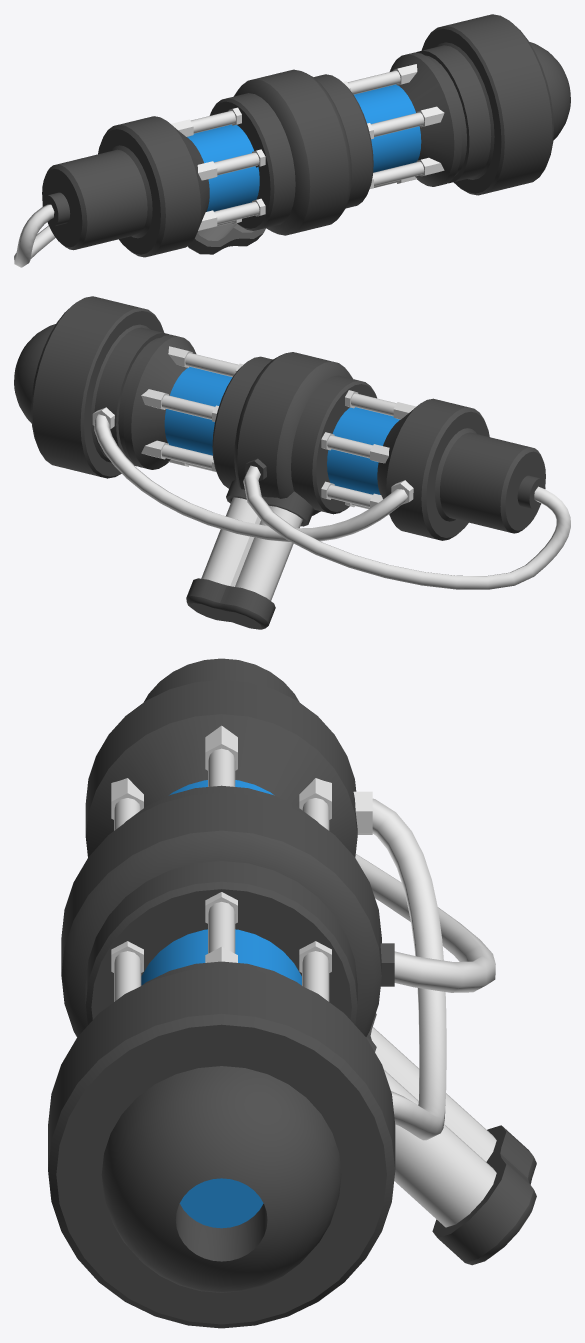
Rendered from weapon.glb.
3 renders of one model, top to bottom at view 1: azimuth 30°, elevation 25°; view 2: azimuth 150°, elevation 25°; view 3: azimuth 270°, elevation 25°, orthographic. The views are drawn at different scales.
Parts seen in each view (by area): view 1: base, tube, bolts, nuts, cables, ammo, ammo_light; view 2: base, cables, tube, ammo_light, bolts, ammo, nuts; view 3: base, cables, ammo_light, tube, ammo, bolts, nuts.
Boxes of the visible parts, x1,y1,x2,y2 form: base: [42, 14, 570, 257]; tube: [187, 84, 421, 211]; bolts: [190, 70, 424, 230]; nuts: [171, 64, 444, 230]; cables: [14, 204, 55, 267]; ammo: [187, 228, 265, 254]; ammo_light: [197, 223, 253, 240]; base: [14, 296, 545, 540]; cables: [94, 414, 570, 589]; tube: [164, 367, 399, 494]; ammo_light: [201, 497, 302, 600]; bolts: [161, 353, 396, 509]; ammo: [186, 479, 314, 629]; nuts: [92, 346, 416, 508]; base: [48, 658, 395, 1328]; cables: [355, 798, 495, 1140]; ammo_light: [370, 1027, 496, 1227]; tube: [141, 780, 301, 1228]; ammo: [366, 1013, 536, 1265]; bolts: [114, 748, 329, 1001]; nuts: [111, 725, 372, 972].
Bounding box in the file's own units: 32.27 × 12.63 × 12.63.
